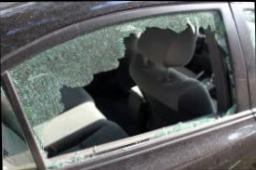Door: (0, 3, 256, 170)
